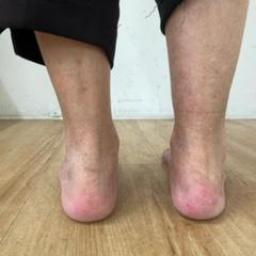Back View -Both Feet-: (41, 107, 241, 238)
